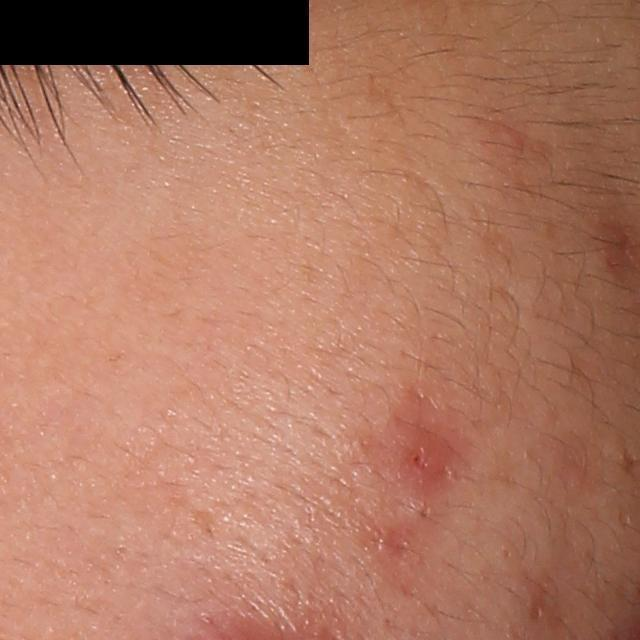comedo: (525, 604, 542, 626)
papule: (376, 421, 461, 506)
